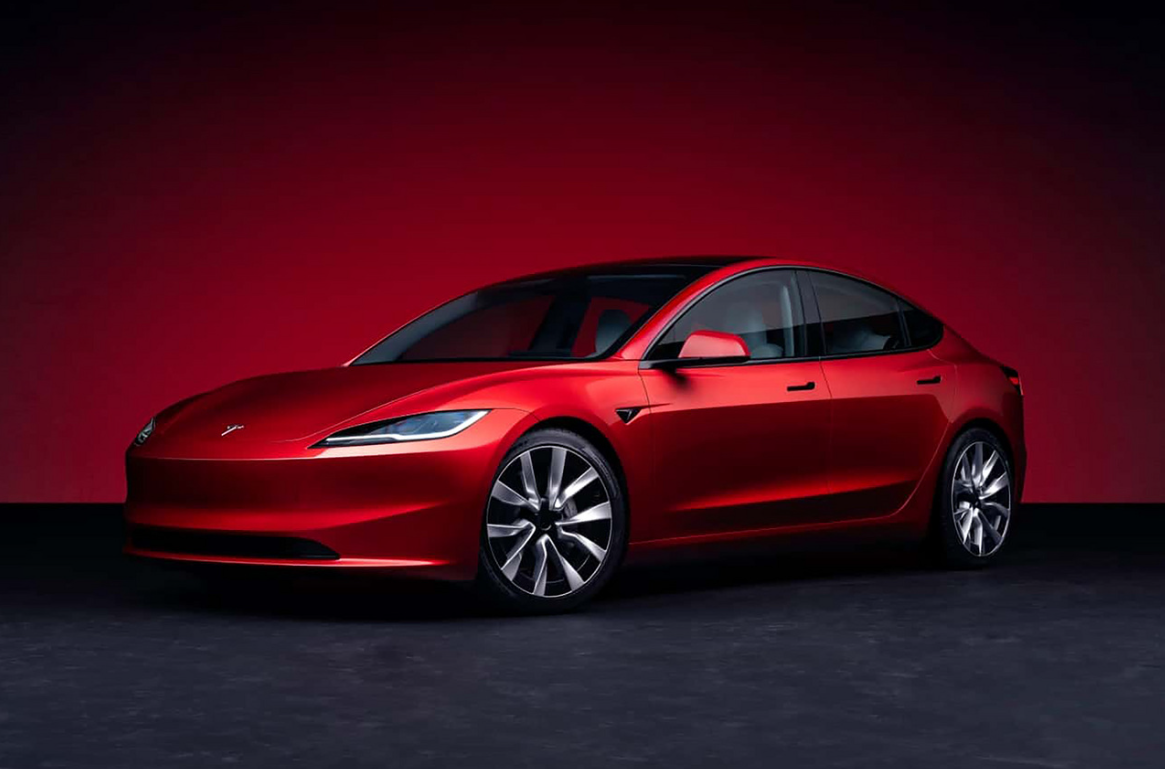other: (106, 253, 1040, 597)
